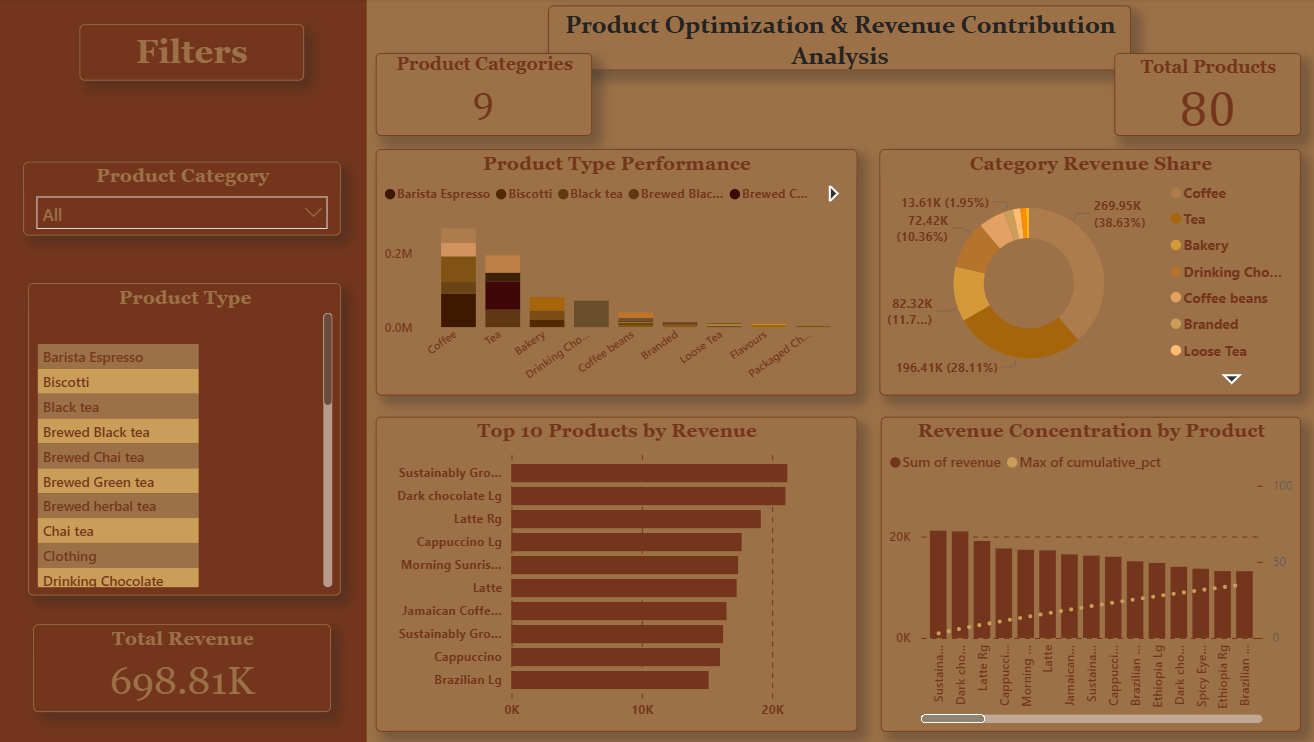

What the dashboard file says about the page in this screenshot:
{"tool":"powerbi","page":{"name":"Dashboard","canvas":[1280,720],"ordinal":0},"visuals":[{"type":"shape","box":[0,0,1280,720.2],"z":0},{"type":"shape","box":[0,0,357.1,720.2],"z":1000},{"type":"textbox","title":"Product Optimization & Revenue Contribution Analysis","box":[532,7.2,562.2,62.7],"z":2000},{"type":"textbox","box":[79.6,25.3,217.2,54.3],"z":3000},{"type":"slicer","title":"Product Category","fields":{"Values":["Category_Revenue.product_category"]},"box":[25.3,158,306.4,71.2],"z":4000},{"type":"tableEx","title":"Product Type","fields":{"Values":["Product_Type_Revenue.product_type"]},"box":[30.2,275.1,301.6,301.6],"z":5000},{"type":"clusteredBarChart","title":"Top 10 Products by Revenue","fields":{"Category":["Product_Revenue.product_detail"],"Y":["Sum(Product_Revenue.revenue)"]},"box":[365.6,404.2,464.5,304],"z":6000},{"type":"card","title":"Total Products","fields":{"Values":["Count(Product_Revenue.product_detail)"]},"box":[1078.6,53.1,179.8,79.6],"z":7000},{"type":"card","title":"Product Categories","fields":{"Values":["Count(Category_Revenue.product_category)"]},"box":[365.6,53.1,208.7,79.6],"z":8000},{"type":"card","title":"Total Revenue","fields":{"Values":["Sum(Product_Revenue.revenue)"]},"box":[35,604.4,287.1,84.5],"z":9000},{"type":"columnChart","title":"Product Type Performance","fields":{"Category":["Product_Type_Revenue.product_category"],"Series":["Product_Type_Revenue.product_type"],"Y":["Sum(Product_Type_Revenue.revenue)"]},"box":[365.6,146,464.5,237.7],"z":10000},{"type":"donutChart","title":"Category Revenue Share","fields":{"Category":["Category_Revenue.product_category"],"Y":["Sum(Category_Revenue.revenue)"]},"box":[851.7,146,406.6,237.7],"z":11000},{"type":"lineStackedColumnComboChart","title":"Revenue Concentration by Product","fields":{"Category":["Pareto.product_detail"],"Y":["Sum(Pareto.revenue)"],"Y2":["Max(Pareto.cumulative_pct)"]},"box":[853,404.2,405.4,304],"z":12000}]}

Visuals, with their boxes in screenshot pixels (x1, y1, x2, y2), scaled from the page's 1280x720 canvas onto the 1314x742 screenshot:
shape: (0, 0, 1313, 741)
shape: (0, 0, 367, 741)
"Product Optimization & Revenue Contribution Analysis" textbox: (546, 7, 1123, 72)
textbox: (82, 26, 305, 82)
"Product Category" slicer: (26, 163, 341, 236)
"Product Type" tableEx: (31, 284, 341, 594)
"Top 10 Products by Revenue" clusteredBarChart: (375, 417, 852, 730)
"Total Products" card: (1107, 55, 1292, 137)
"Product Categories" card: (375, 55, 590, 137)
"Total Revenue" card: (36, 623, 331, 710)
"Product Type Performance" columnChart: (375, 150, 852, 395)
"Category Revenue Share" donutChart: (874, 150, 1292, 395)
"Revenue Concentration by Product" lineStackedColumnComboChart: (876, 417, 1292, 730)
